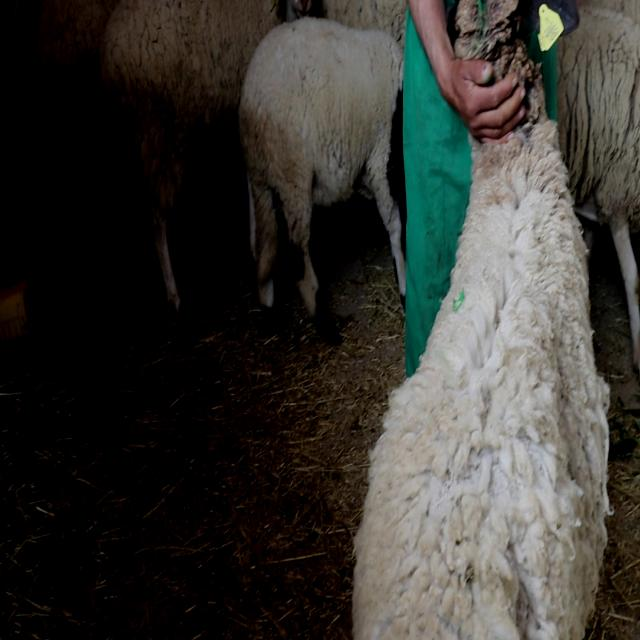Score_2: (353, 0, 609, 639)
